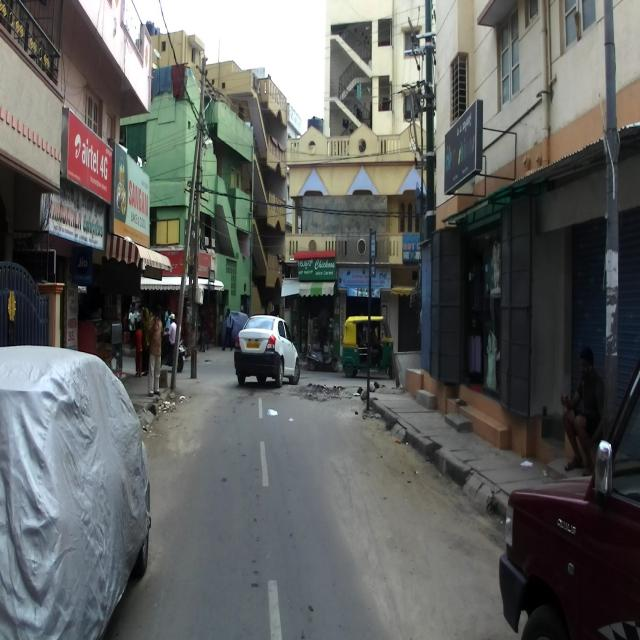autorickshaw: (341, 314, 397, 379)
car: (0, 344, 151, 640), (498, 362, 640, 639), (234, 314, 300, 388)
scooter: (157, 328, 187, 372), (306, 336, 338, 370)
